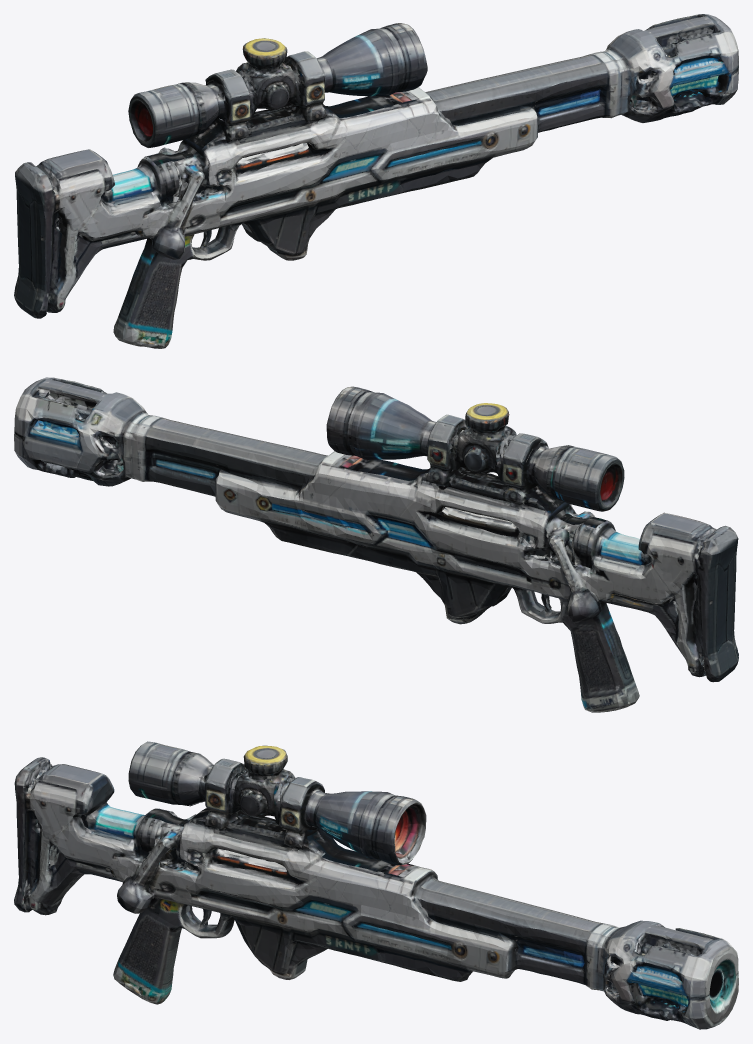
Rendered from Sci-fi_SniperRifle_Low20k.fbx.
The picture shows the model from 3 angles, top to bottom: view 1: azimuth 30°, elevation 25°; view 2: azimuth 150°, elevation 25°; view 3: azimuth 330°, elevation 25°; orthographic projection.
Parts seen in each view (by area): view 1: Sci-fi_SniperRifle_Low20k; view 2: Sci-fi_SniperRifle_Low20k; view 3: Sci-fi_SniperRifle_Low20k.
Boxes of the visible parts, x1,y1,x2,y2 form: Sci-fi_SniperRifle_Low20k: (14,14,738,348); Sci-fi_SniperRifle_Low20k: (14,377,738,712); Sci-fi_SniperRifle_Low20k: (14,741,738,1029).
Size of the model in its own units: 99.93 by 37.46 by 12.88.
Materials: 1 (1 with a texture image).
